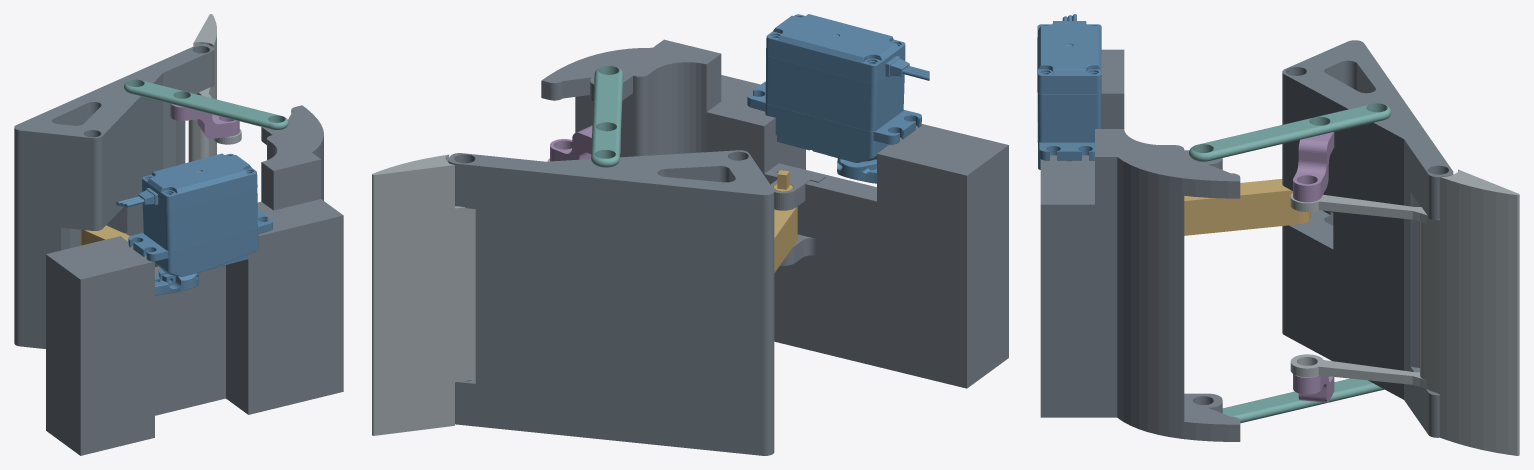
Rendered from spoiler.glb.
3 renders of one model, left to right at view 1: azimuth 30°, elevation 25°; view 2: azimuth 150°, elevation 25°; view 3: azimuth 270°, elevation 25°, orthographic. The views are drawn at different scales.
Visible parts, largest first — view 1: base-1, wing 1-1, 蓝色空心杯ds3225-35-45.stp-2, bar2-1, wing 2-1, bar3-1, bar-1; view 2: wing 1-1, base-1, wing 2-1, 蓝色空心杯ds3225-35-45.stp-2, bar2-1, bar-1, fix-1, bar3-1; view 3: base-1, wing 1-1, wing 2-1, 蓝色空心杯ds3225-35-45.stp-2, bar-1, bar2-1, bar2-2, bar3-1, bar3-2.
Part boxes in pixels (x1,y1,x2,y2): base-1: [46, 105, 343, 455]; wing 1-1: [14, 44, 214, 348]; 蓝色空心杯ds3225-35-45.stp-2: [116, 153, 272, 295]; bar2-1: [124, 79, 288, 129]; wing 2-1: [188, 14, 241, 162]; bar3-1: [170, 104, 239, 138]; bar-1: [80, 225, 157, 266]; wing 1-1: [448, 150, 774, 455]; base-1: [541, 39, 1008, 388]; wing 2-1: [372, 154, 549, 435]; 蓝色空心杯ds3225-35-45.stp-2: [747, 14, 929, 183]; bar2-1: [591, 66, 623, 167]; bar-1: [773, 170, 797, 272]; fix-1: [770, 166, 825, 210]; bar3-1: [550, 125, 620, 161]; base-1: [1040, 49, 1240, 441]; wing 1-1: [1282, 40, 1453, 437]; wing 2-1: [1290, 169, 1519, 455]; 蓝色空心杯ds3225-35-45.stp-2: [1037, 14, 1101, 169]; bar-1: [1184, 179, 1310, 235]; bar2-1: [1189, 103, 1391, 161]; bar2-2: [1222, 378, 1384, 423]; bar3-1: [1293, 132, 1334, 202]; bar3-2: [1293, 365, 1334, 402].
Bounding box in the file's own units: 0.1437 × 0.1051 × 0.1508.
